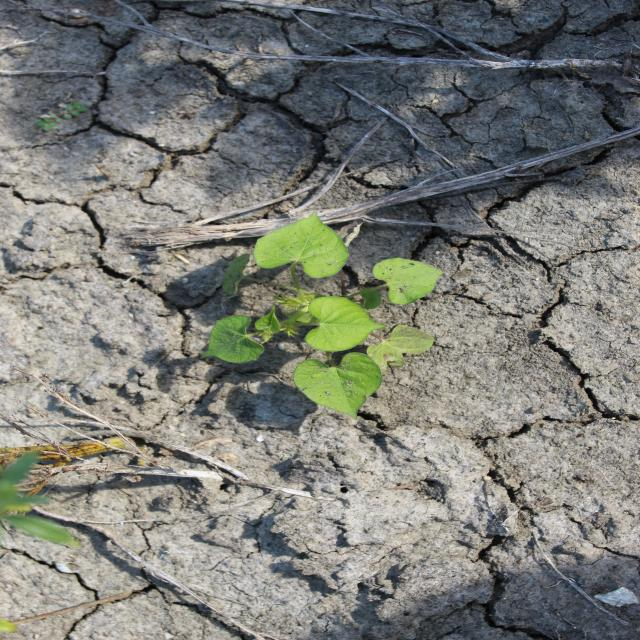MorningGlory: (198, 210, 448, 422)
